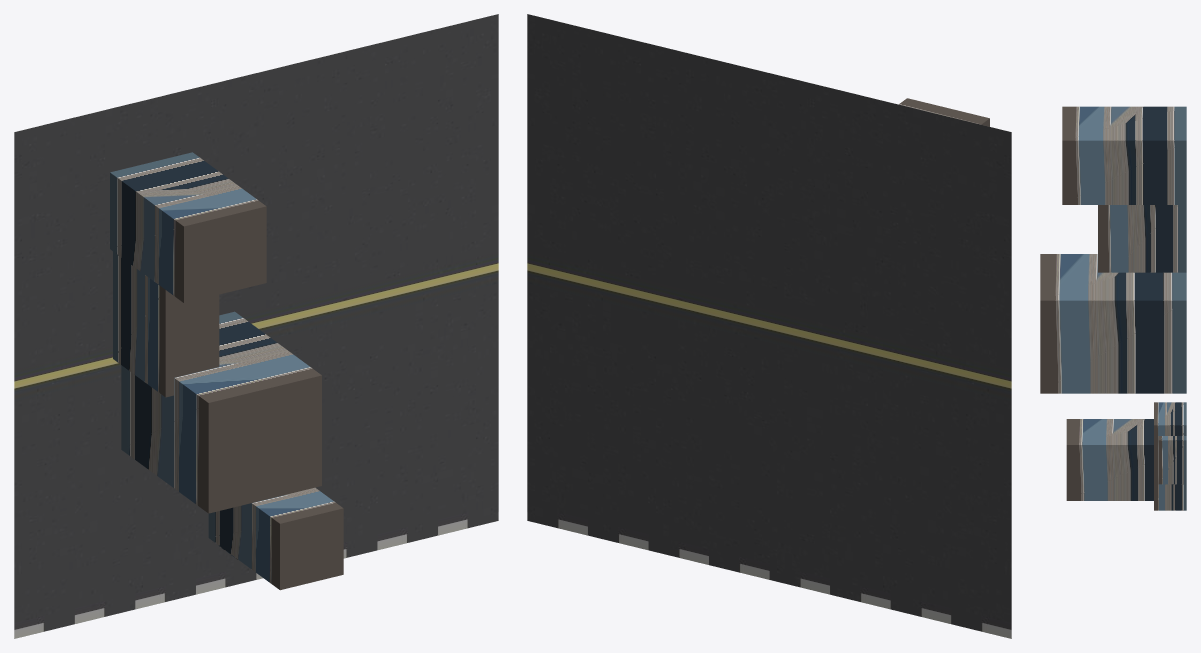
3 views of the same model, side by side, from view 1: azimuth 30°, elevation 25°; view 2: azimuth 150°, elevation 25°; view 3: azimuth 270°, elevation 25° (orthographic). The views are drawn at different scales.
Size of the model in its own units: 119 by 119 by 37.15.
2 materials, 2 textured.
